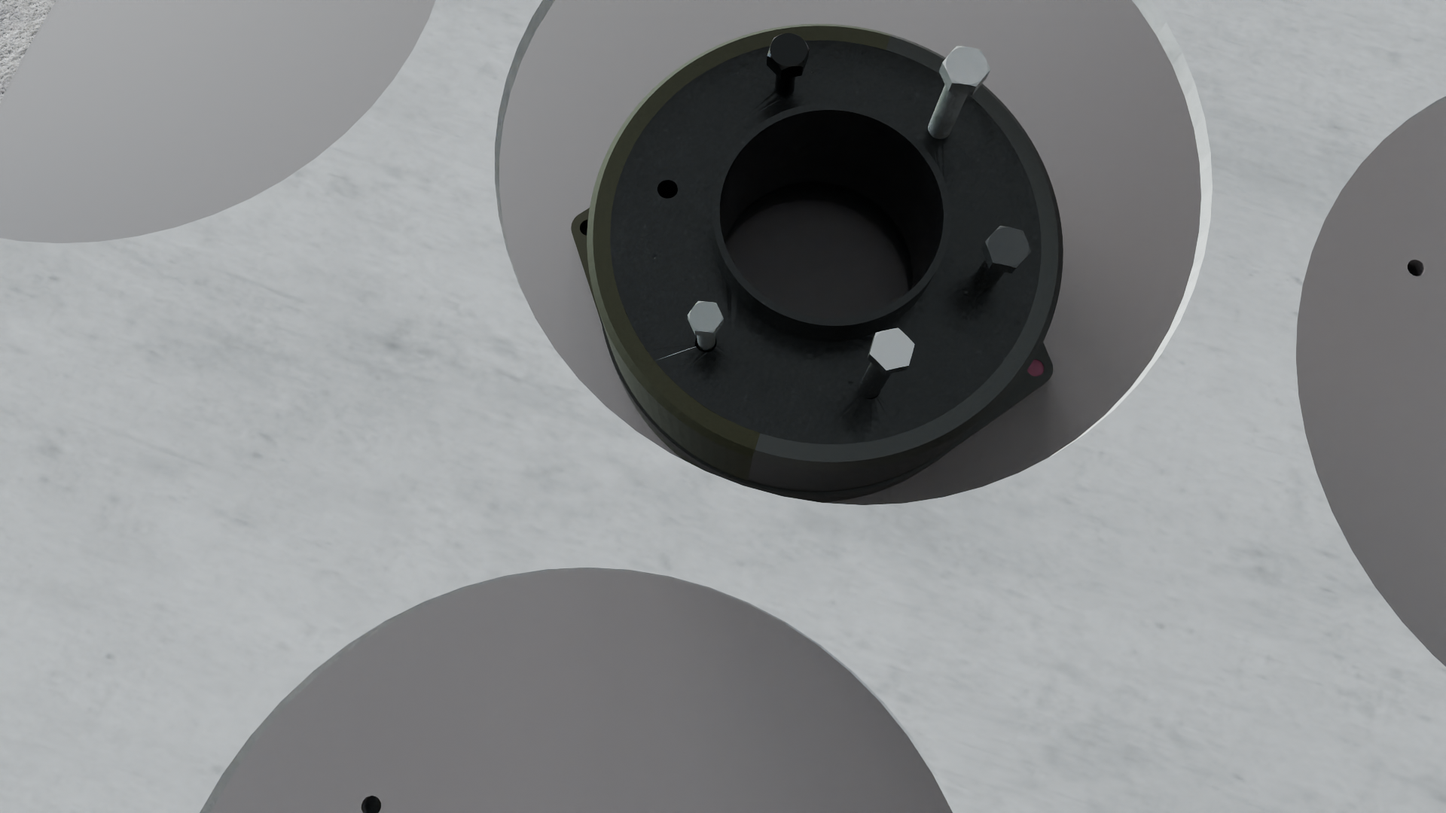bolt: (985, 226, 1031, 268), (943, 46, 990, 87), (870, 328, 915, 370), (767, 33, 810, 70), (688, 301, 724, 333)
